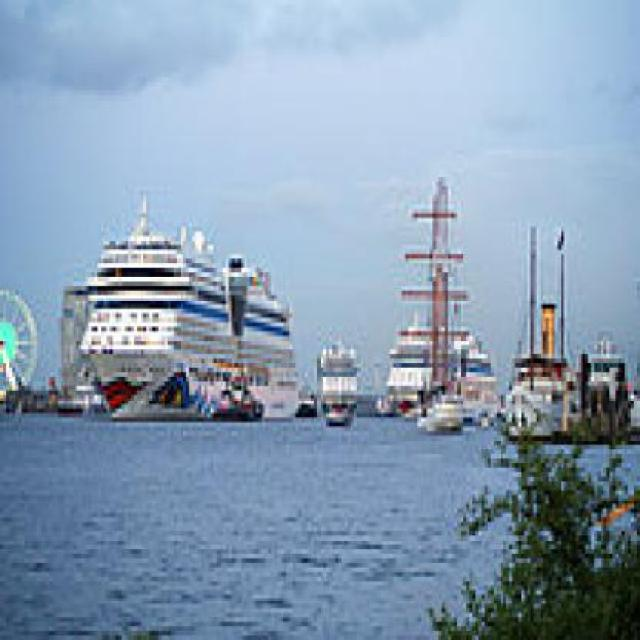cruise: (56, 183, 313, 441)
